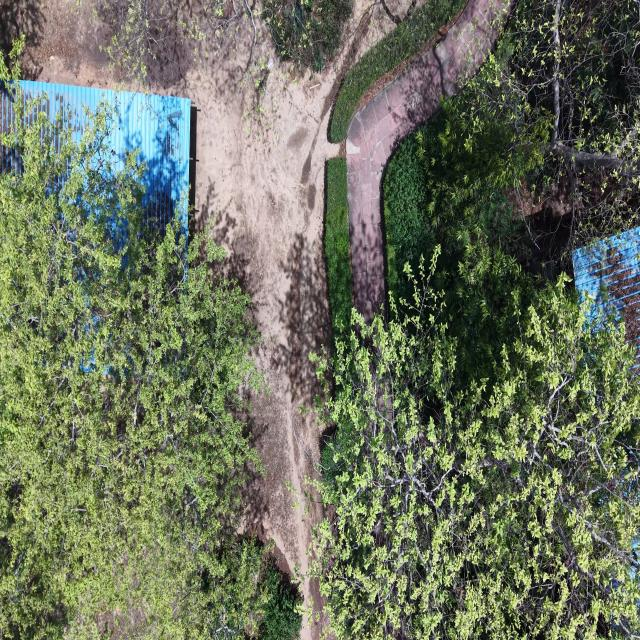DRY_AREA: (150, 0, 377, 573), (151, 33, 375, 573), (150, 34, 338, 574), (152, 56, 338, 574), (171, 58, 338, 575), (186, 50, 339, 575), (190, 59, 336, 573), (195, 66, 339, 572), (195, 74, 335, 573), (355, 8, 463, 112), (0, 0, 113, 86)
PATHWAYS: (346, 0, 509, 323)
ROOFTOP_BUILDING: (0, 81, 196, 237), (20, 81, 196, 234), (20, 81, 196, 233), (573, 228, 639, 348)
VEGETATION_TREE: (311, 0, 639, 639), (314, 0, 639, 639), (316, 109, 639, 638), (0, 45, 283, 638), (316, 180, 639, 638), (316, 248, 639, 638), (384, 0, 639, 335), (384, 0, 639, 289), (448, 0, 639, 249), (384, 106, 534, 377), (383, 104, 529, 297), (93, 0, 352, 84), (330, 0, 465, 142), (92, 0, 257, 85), (381, 136, 432, 297), (95, 0, 188, 84), (262, 0, 352, 71), (325, 157, 352, 333), (260, 558, 302, 639), (0, 0, 44, 57)
